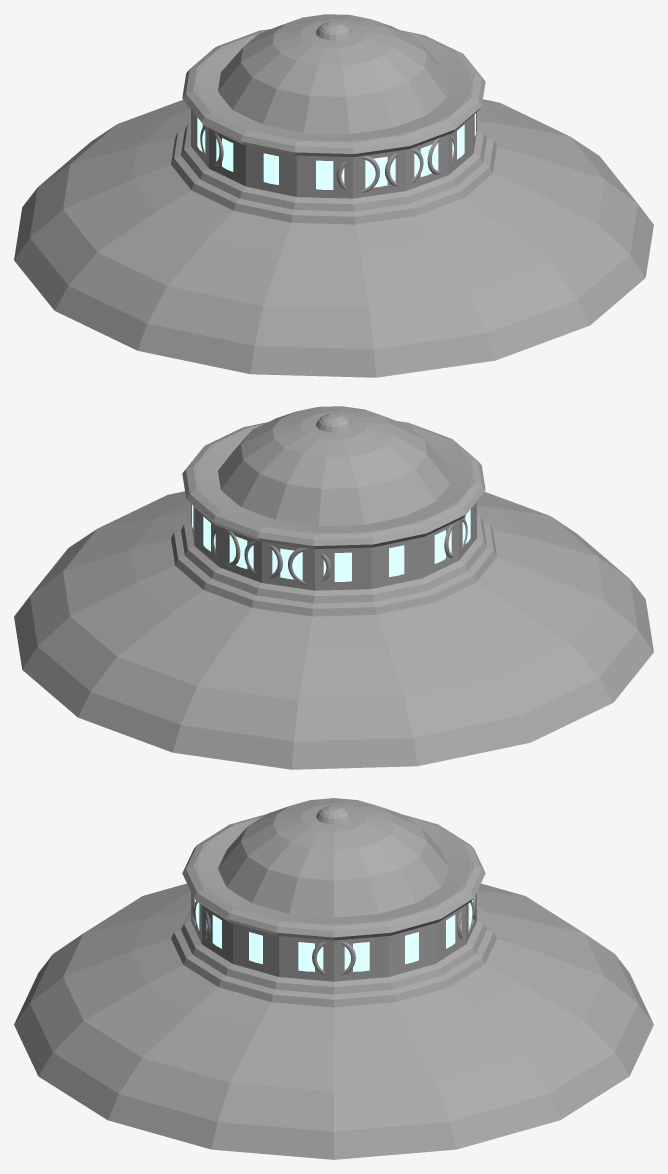
File: Spaceship02-1228-2.fbx
The picture shows the model from 3 angles, top to bottom: view 1: azimuth 30°, elevation 25°; view 2: azimuth 150°, elevation 25°; view 3: azimuth 270°, elevation 25°; orthographic projection.
Visible parts, largest first — view 1: Spaceship.001, Spaceship, Cylinder.001; view 2: Spaceship.001, Spaceship, Cylinder.001; view 3: Spaceship.001, Spaceship, Cylinder.001.
Boxes of the visible parts, x1,y1,x2,y2 form: Spaceship.001: [14, 14, 653, 377]; Spaceship: [195, 33, 472, 141]; Cylinder.001: [197, 113, 475, 189]; Spaceship.001: [14, 406, 653, 769]; Spaceship: [195, 425, 472, 533]; Cylinder.001: [192, 505, 470, 581]; Spaceship.001: [14, 798, 653, 1159]; Spaceship: [196, 817, 471, 924]; Cylinder.001: [194, 900, 473, 971].
Bounding box in the file's own units: 671 × 298 × 671.
